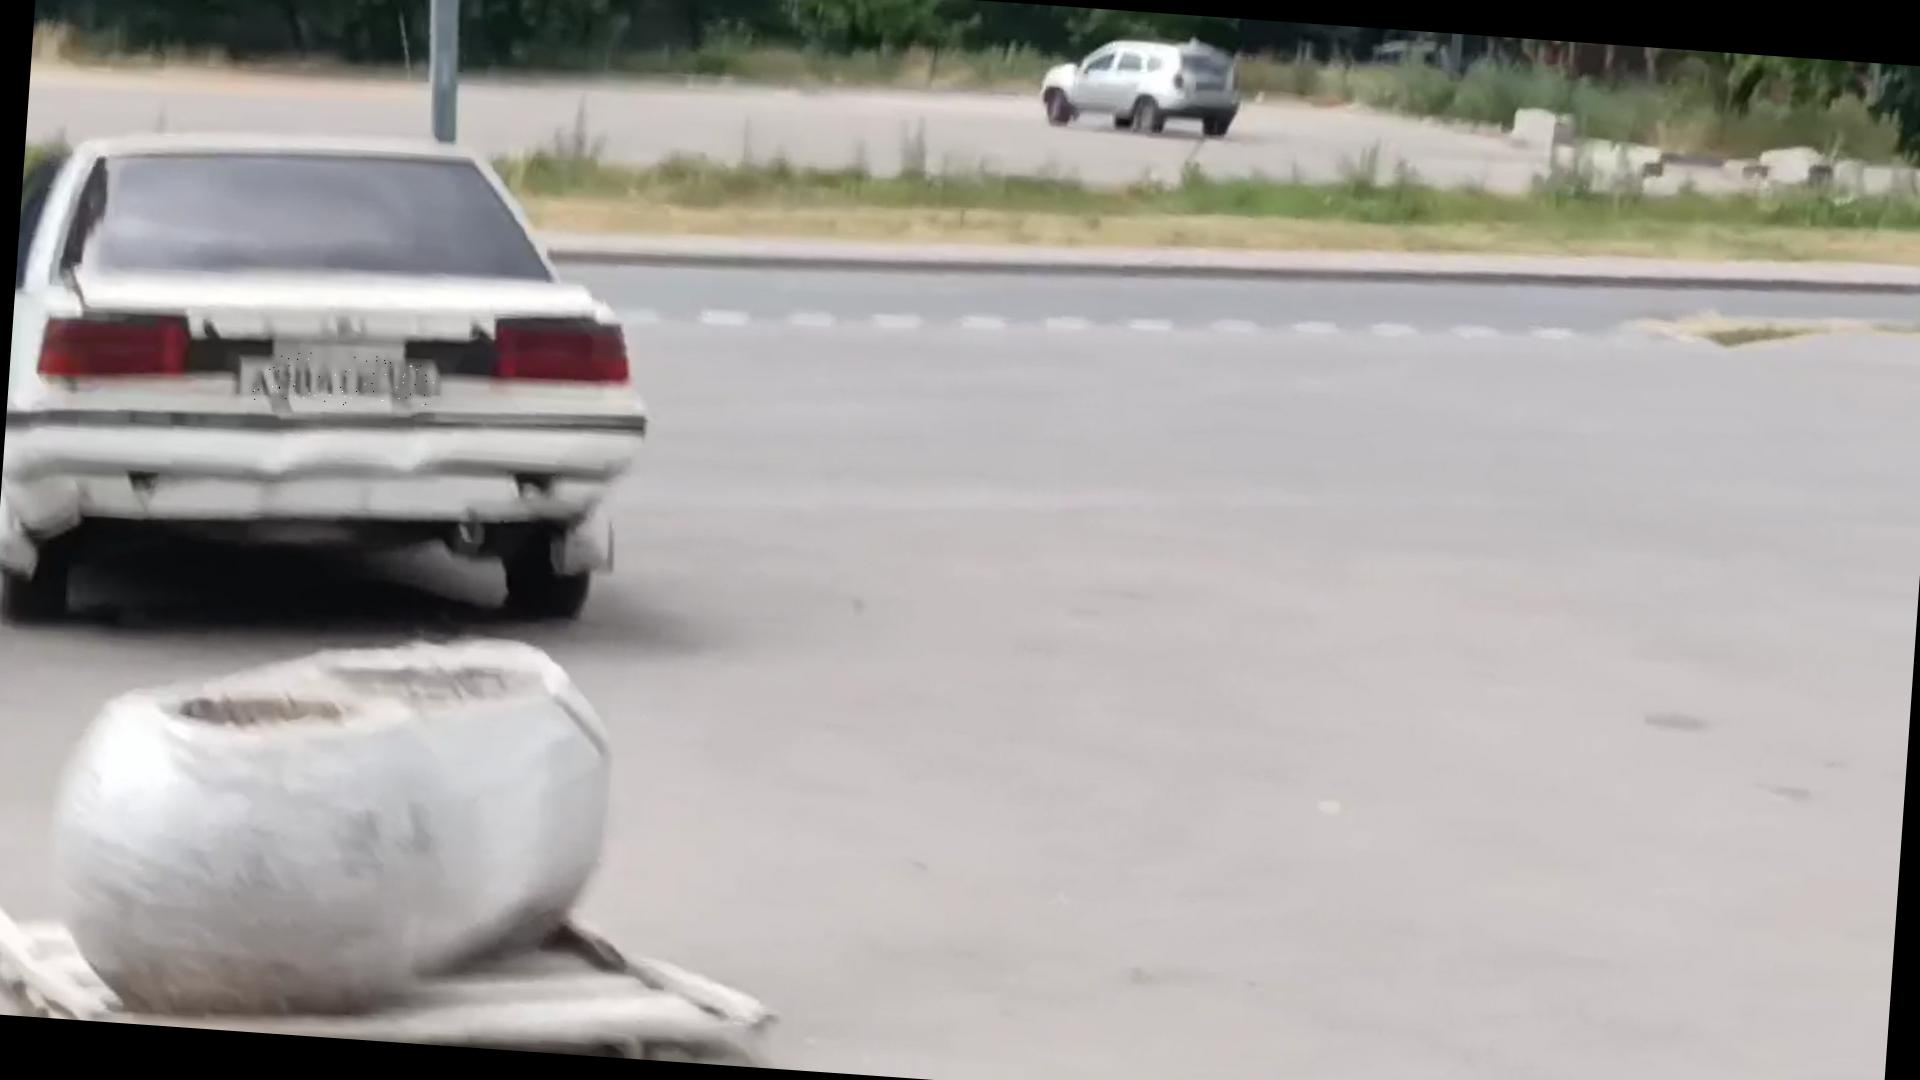plate: (248, 348, 438, 413)
